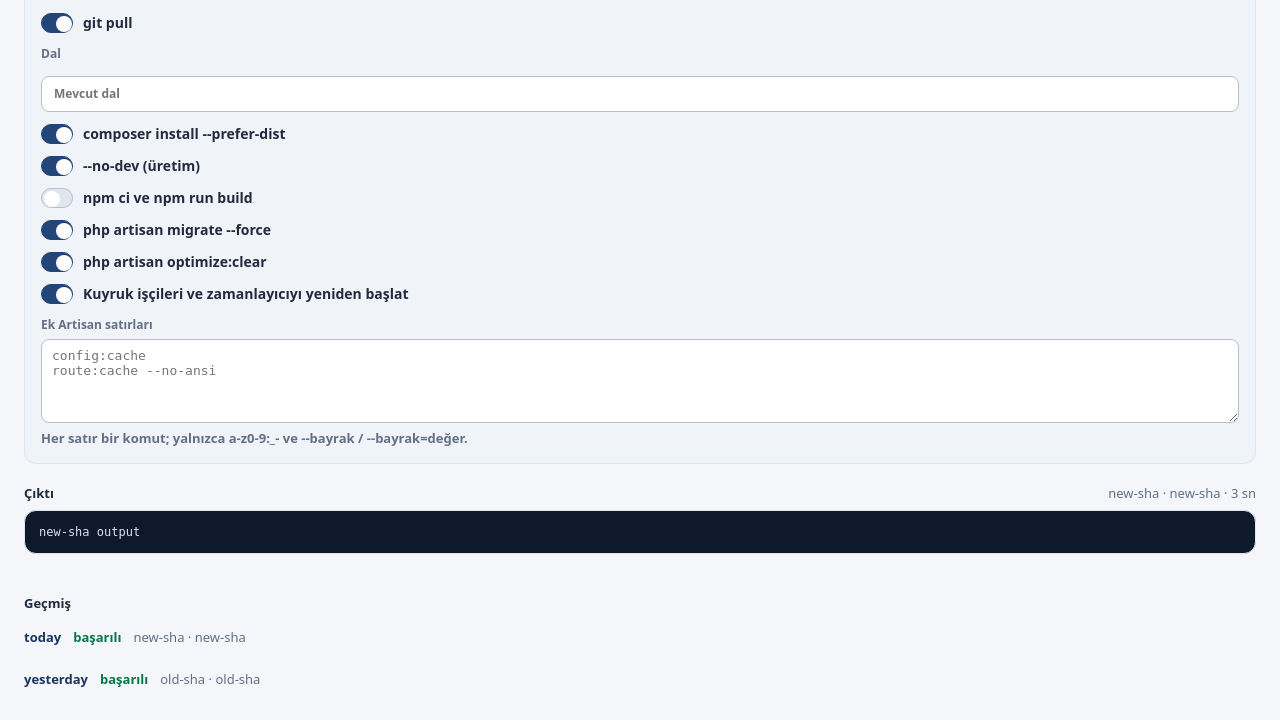
release output identity › shows the selected historical record's branch and SHA alongside its output
This screenshot has width=1280, height=720.
(page scrolled)
Expected: the text "new-sha output" is shown, [24,510,1256,554]
Click the button "yesterday". click: (56, 679)
box: [24,662,88,696]
(page scrolled)
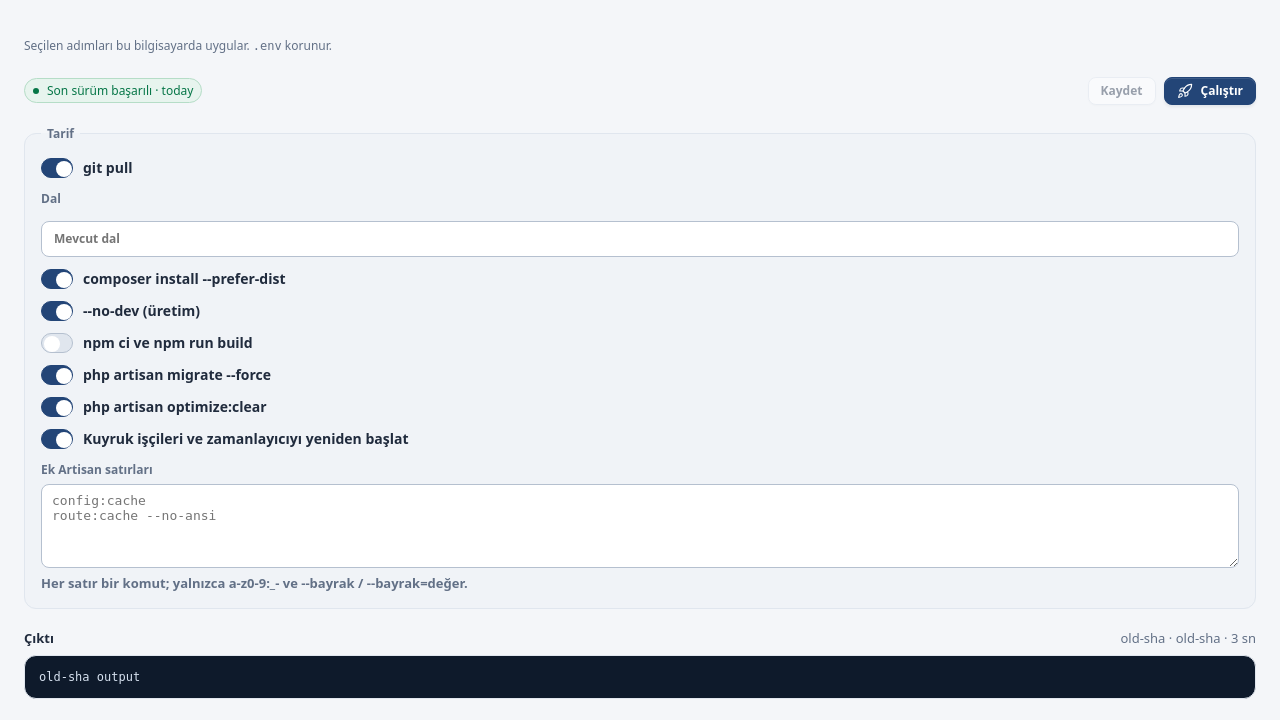
Now the element with class "release-console" shows "old-sha · old-sha · 3 sn", box [24,629,1256,699]
Now the element with class "release-console" shows "old-sha output", box [39,670,140,684]
Now the element with class "release-console" no longer shows "new-sha"
